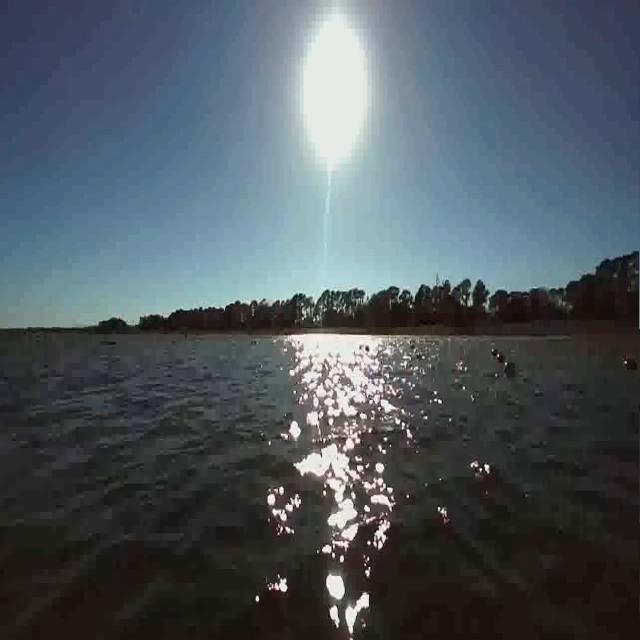green-buoy: (505, 361, 515, 376)
